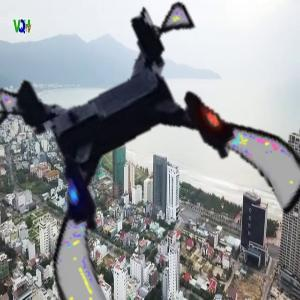drone: (3, 14, 289, 300)
